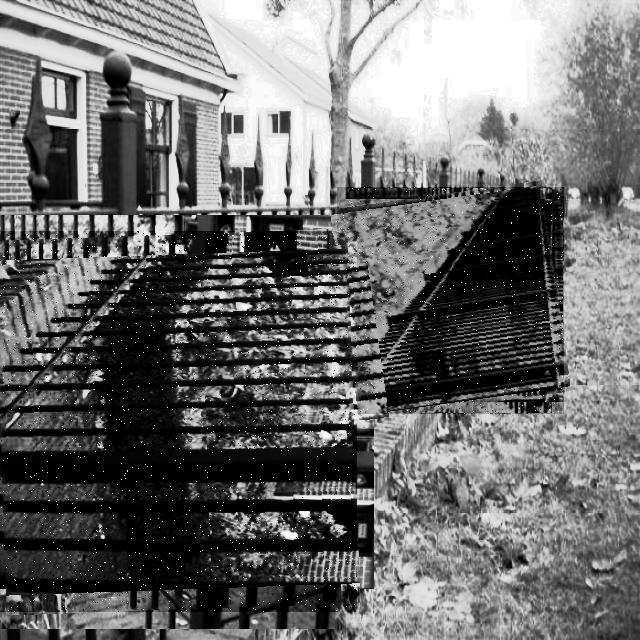fences: (0, 231, 357, 612), (337, 187, 564, 414)
